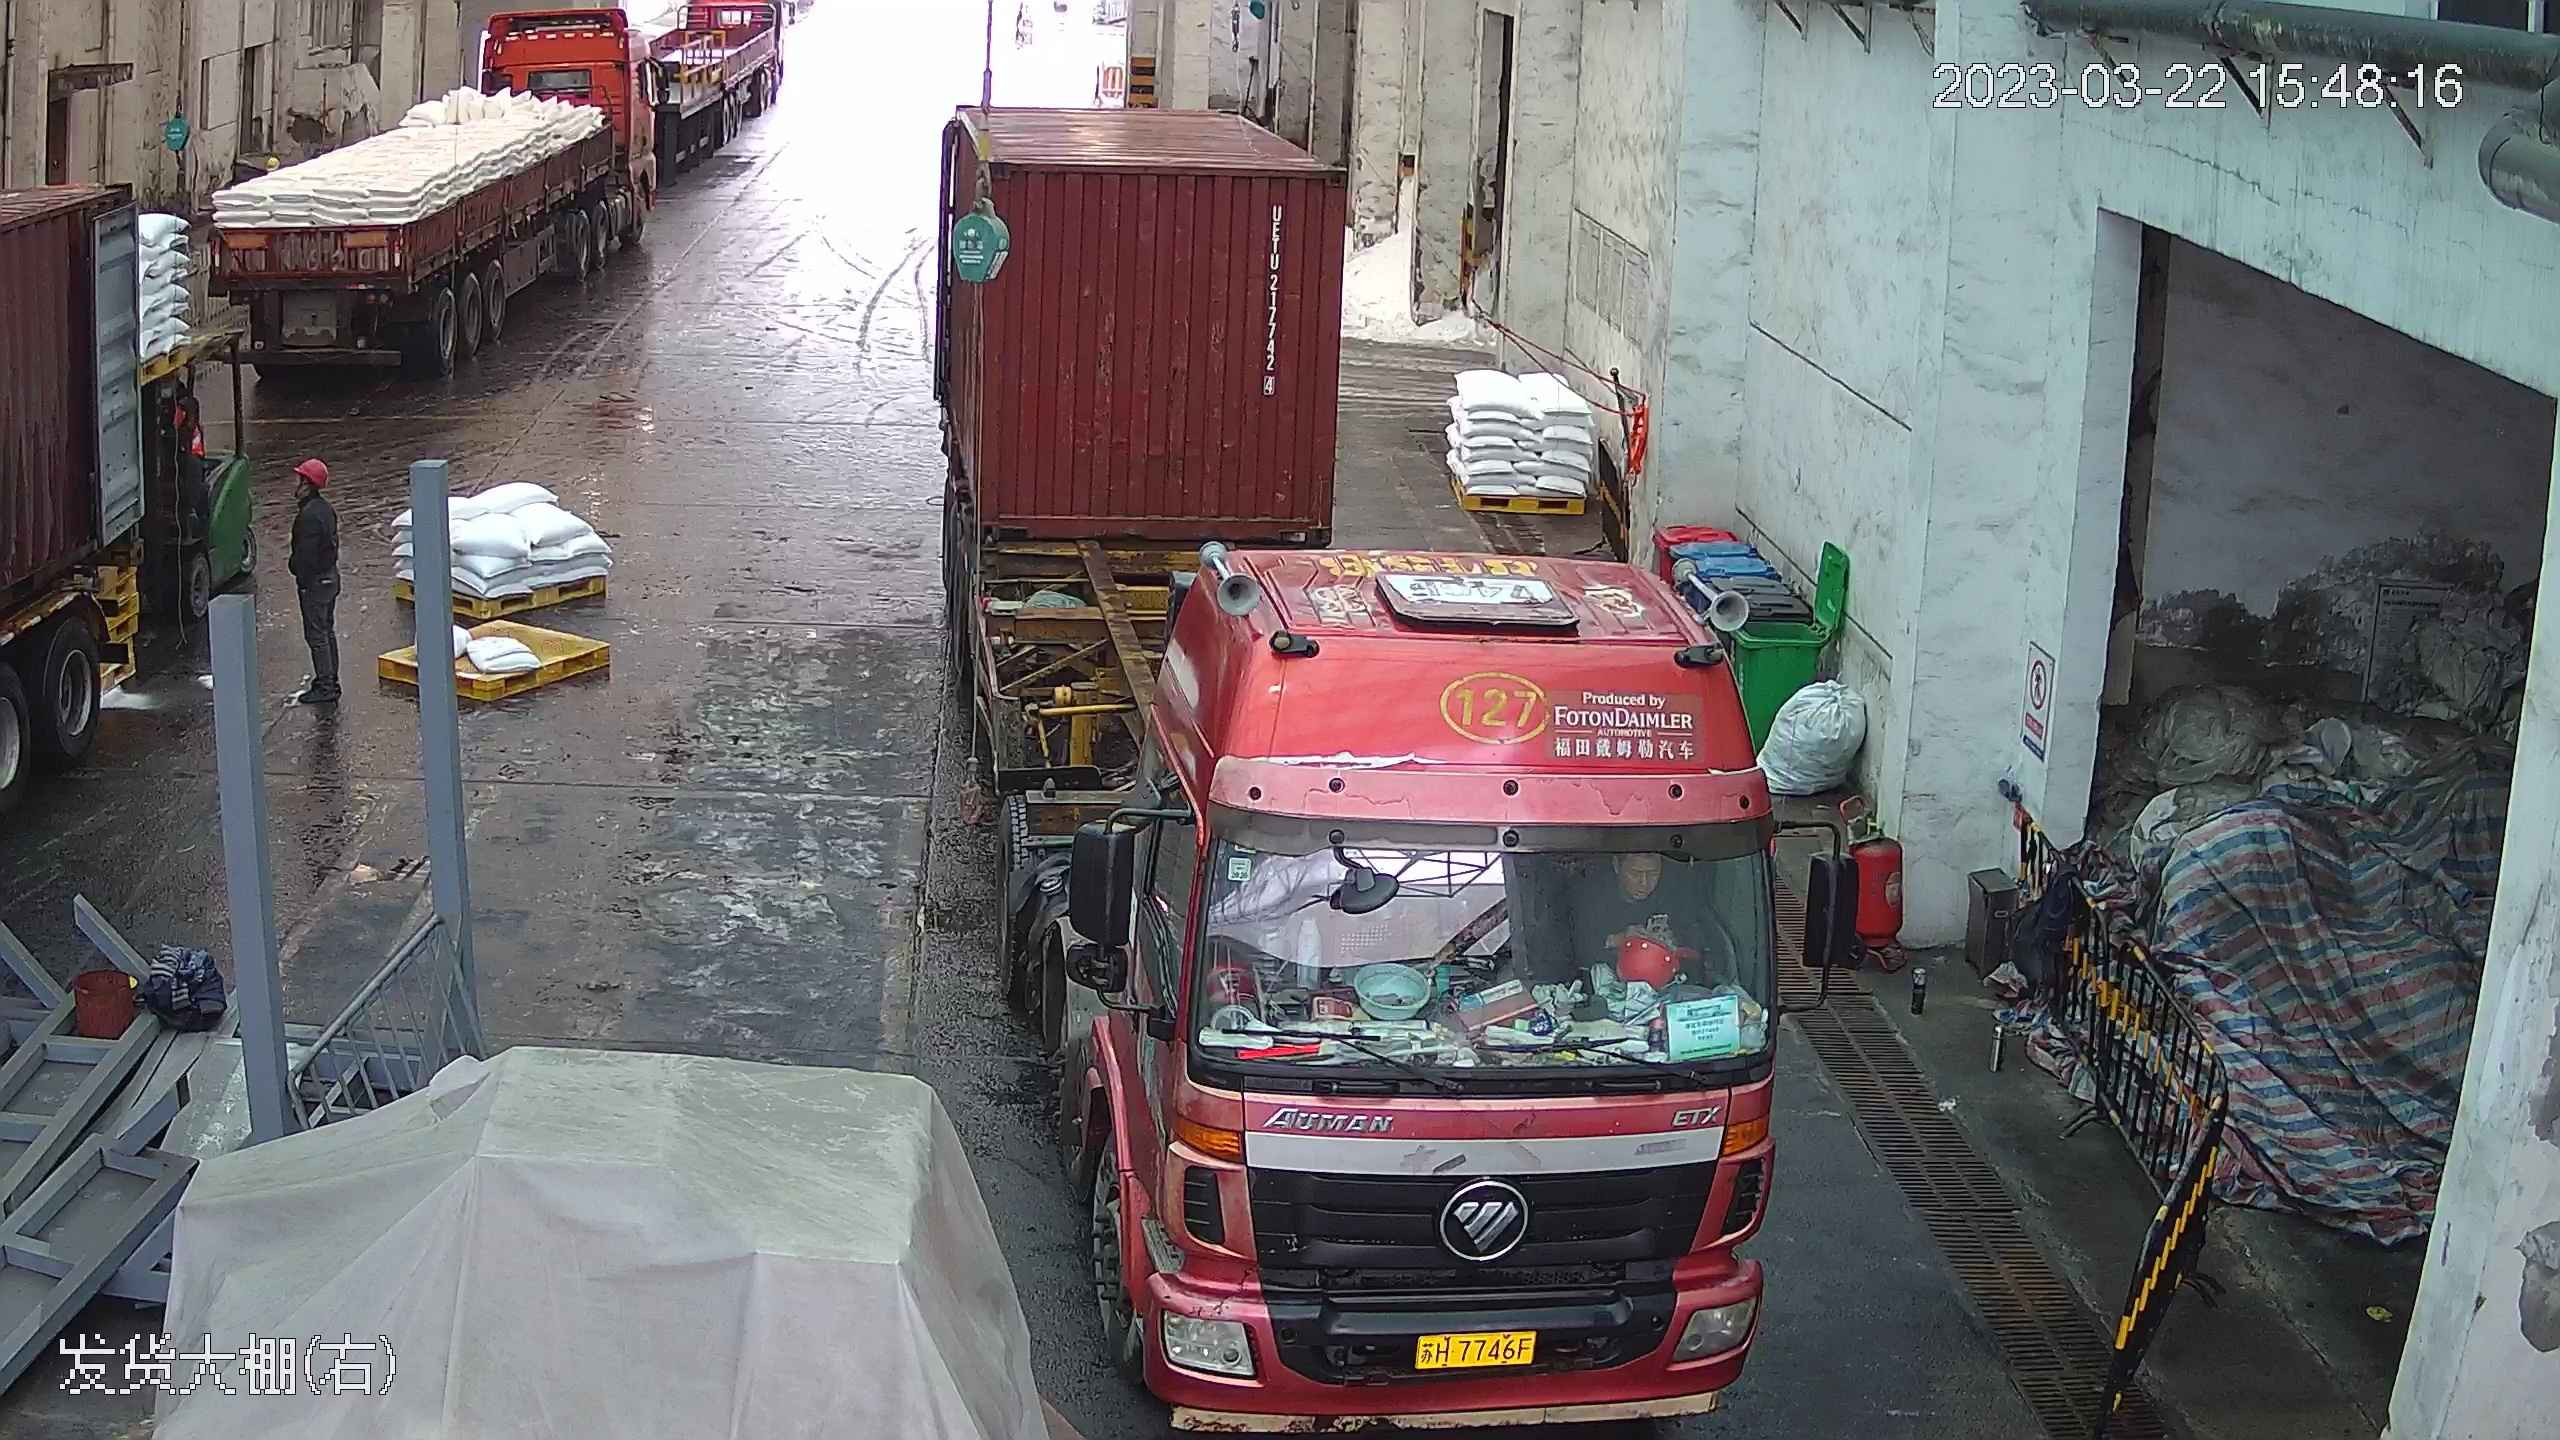head: (286, 454, 337, 534)
helmet: (293, 454, 330, 484)
people: (282, 452, 347, 709)
truck: (917, 13, 1822, 1438), (185, 7, 748, 359)
